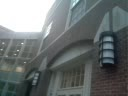window: (0, 37, 34, 59), (70, 1, 86, 26), (0, 81, 19, 95)
